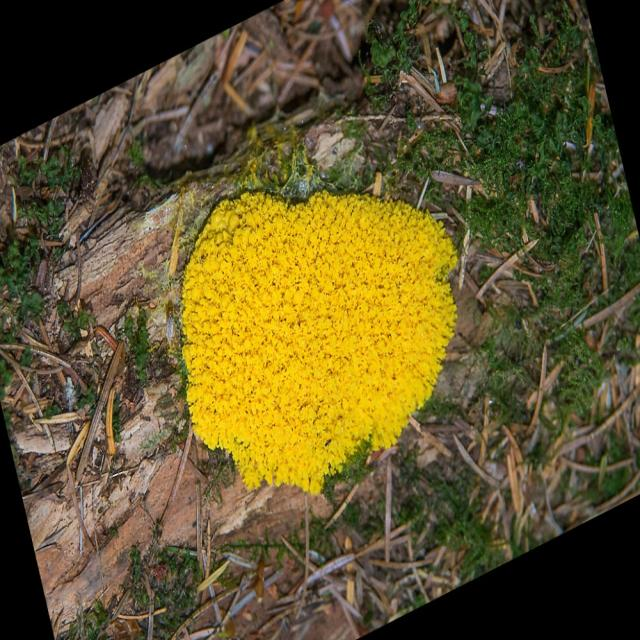Dog_vomit_slime_mold: (137, 187, 522, 480)
